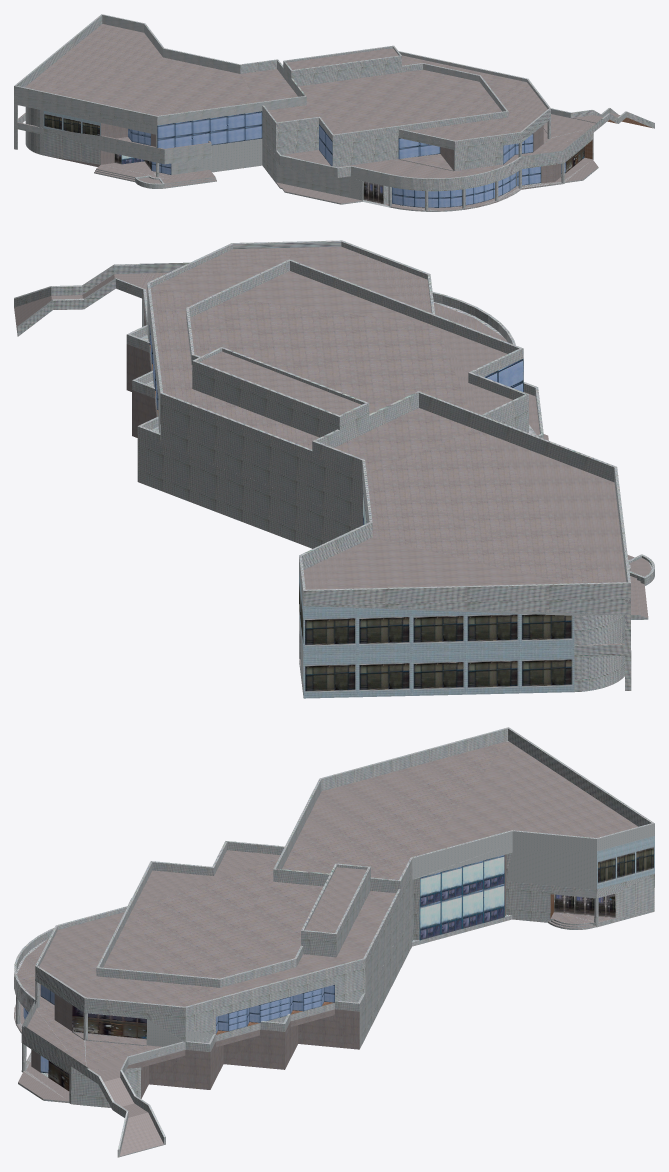
File: Faculty_Hall_Tool.obj
3 renders of one model, top to bottom at view 1: azimuth 30°, elevation 25°; view 2: azimuth 150°, elevation 25°; view 3: azimuth 270°, elevation 25°, orthographic. The views are drawn at different scales.
Parts seen in each view (by area): view 1: VMtl1415, VMtl1410, VMtl1411, VMtl1406, VMtl1408; view 2: VMtl1415, VMtl1410, VMtl1406, VMtl1411; view 3: VMtl1415, VMtl1410, VMtl1413, VMtl1411, VMtl1406, VMtl1404, VMtl1408.
Part boxes in pixels (x1,y1,x2,y2): VMtl1415: (17, 24, 620, 210); VMtl1410: (14, 14, 654, 211); VMtl1411: (128, 111, 565, 207); VMtl1406: (43, 111, 100, 135); VMtl1408: (114, 154, 383, 204); VMtl1415: (14, 246, 651, 667); VMtl1410: (14, 240, 654, 697); VMtl1406: (299, 572, 574, 698); VMtl1411: (149, 325, 523, 409); VMtl1415: (14, 741, 638, 1156); VMtl1410: (14, 727, 654, 1157); VMtl1413: (419, 855, 504, 940); VMtl1411: (23, 984, 334, 1073); VMtl1406: (597, 836, 654, 889); VMtl1404: (48, 1005, 146, 1090); VMtl1408: (554, 893, 615, 917).
Bounding box in the file's own units: 102 × 13.82 × 80.38.
8 materials, 8 textured.
